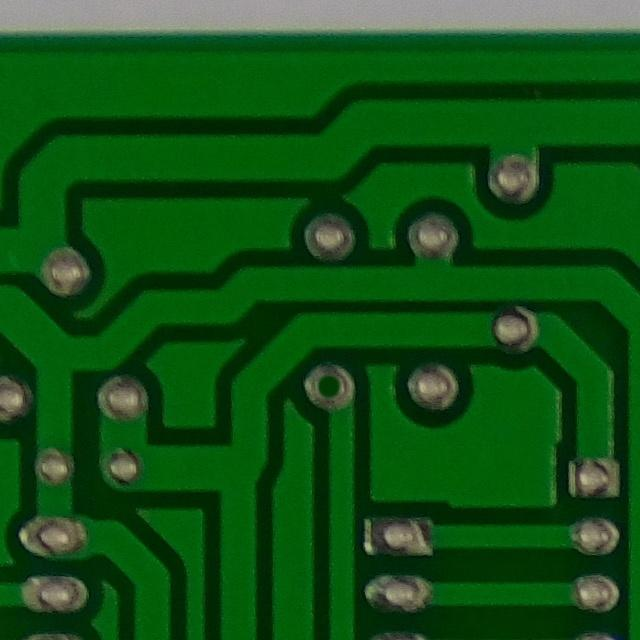missing_hole: (294, 352, 364, 415)
